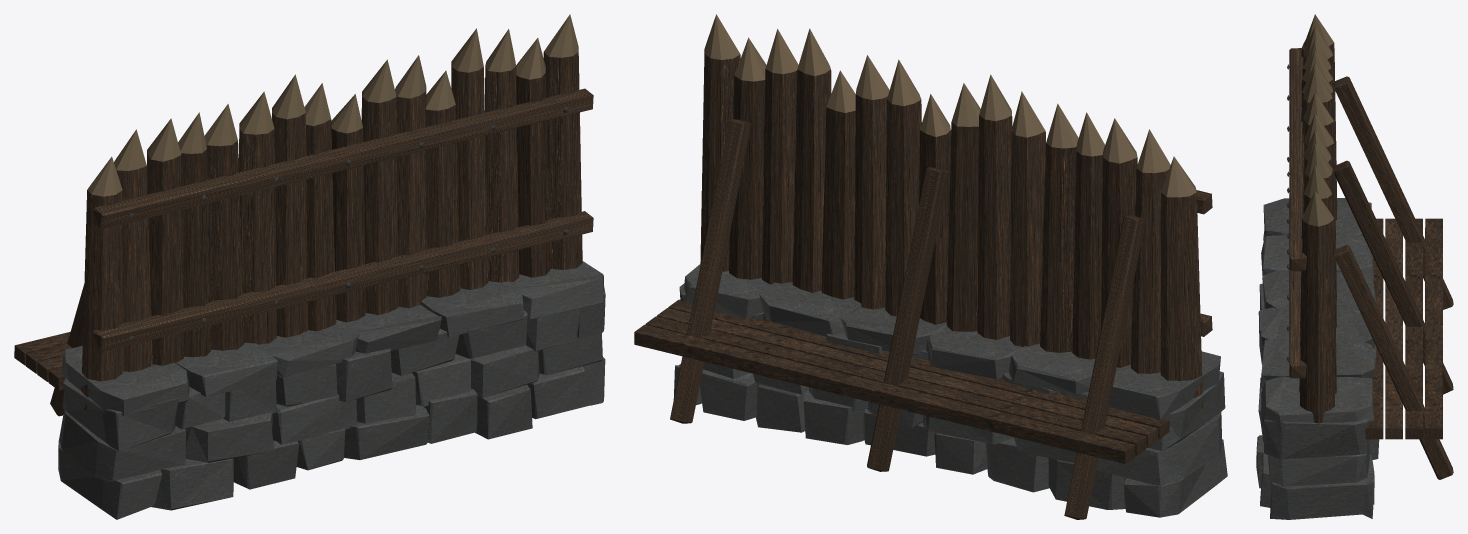
File: barrosan_palisade_wall_4m_lod1.glb
3 views of the same model, side by side, from view 1: azimuth 30°, elevation 25°; view 2: azimuth 150°, elevation 25°; view 3: azimuth 270°, elevation 25° (orthographic). The views are drawn at different scales.
Parts seen in each view (by area): view 1: barrosan_palisade_wall_4m; view 2: barrosan_palisade_wall_4m; view 3: barrosan_palisade_wall_4m.
Part boxes in pixels (bbox=[...]): barrosan_palisade_wall_4m: bbox=[14, 14, 605, 519]; barrosan_palisade_wall_4m: bbox=[634, 14, 1227, 519]; barrosan_palisade_wall_4m: bbox=[1256, 14, 1453, 519].
Size of the model in its own units: 4.09 by 2.97 by 1.58.
4 materials, 3 textured.
